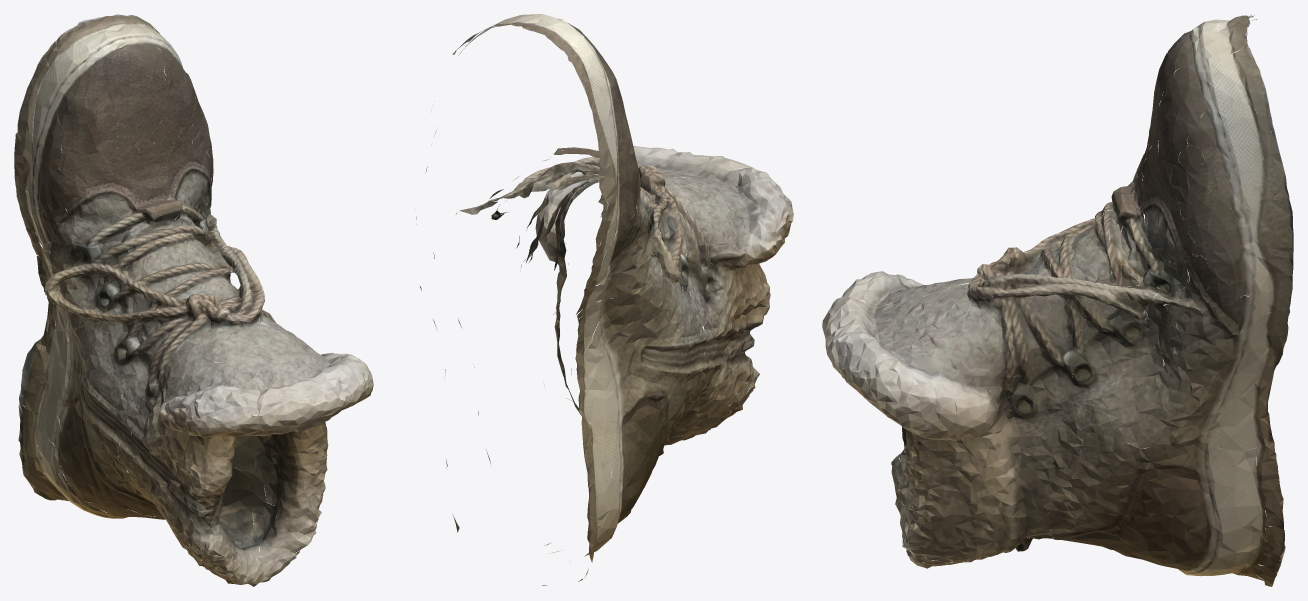
Rendered from KukmarStyleLast2.glb.
The picture shows the model from 3 angles, left to right: view 1: azimuth 30°, elevation 25°; view 2: azimuth 150°, elevation 25°; view 3: azimuth 270°, elevation 25°; orthographic projection. The views are drawn at different scales.
Visible parts, largest first — view 1: Mesh_0.002; view 2: Mesh_0.002; view 3: Mesh_0.002.
Part boxes in pixels (x1,y1,x2,y2): Mesh_0.002: (14, 14, 373, 586); Mesh_0.002: (415, 14, 793, 585); Mesh_0.002: (822, 14, 1293, 586).
Size of the model in its own units: 0.6711 by 1.45 by 1.11.
Materials: 1 (1 with a texture image).
